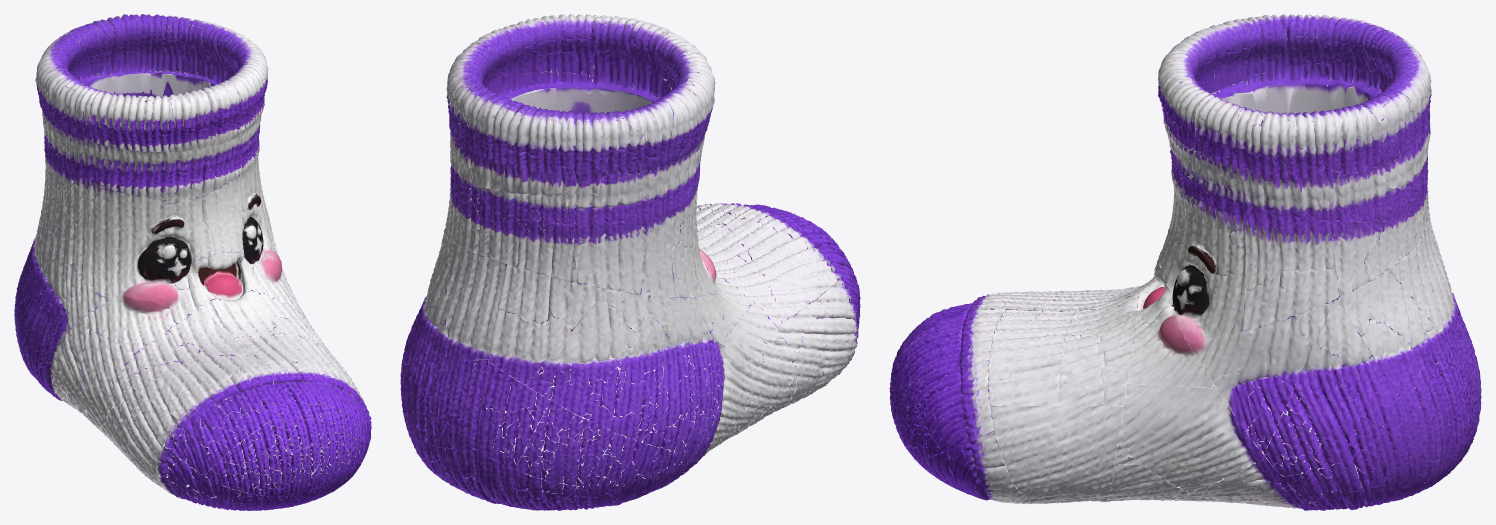
The model's file is BubbleWash_Lost_Sock_Claudia_Small.glb.
3 views of the same model, side by side, from view 1: azimuth 30°, elevation 25°; view 2: azimuth 150°, elevation 25°; view 3: azimuth 270°, elevation 25° (orthographic). The views are drawn at different scales.
Size of the model in its own units: 1.07 by 1.47 by 1.9.
1 material, 1 textured.
